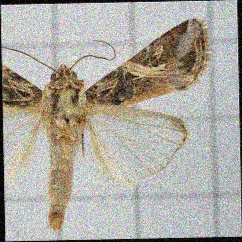Spodoptera litura: (3, 18, 212, 230)
